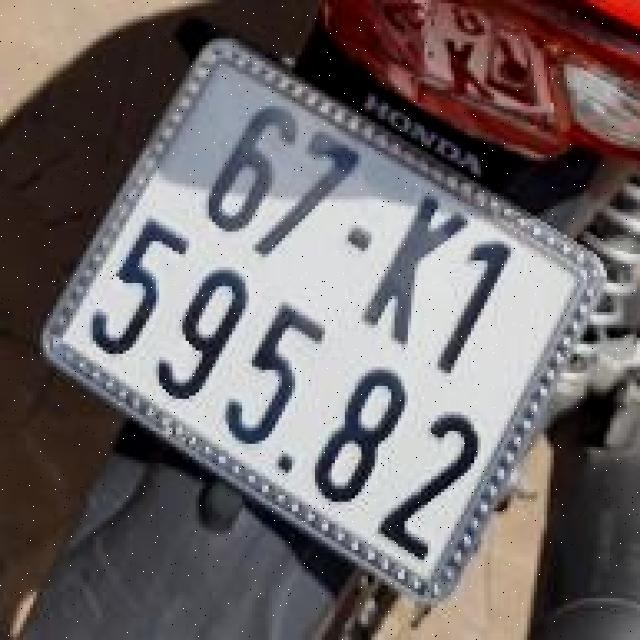1: (420, 222, 536, 395)
2: (367, 397, 505, 574)
5: (207, 291, 343, 463), (74, 204, 205, 373)
6: (194, 86, 319, 245)
7: (242, 116, 376, 275)
8: (297, 350, 431, 525)
9: (144, 248, 271, 420)
K: (350, 177, 490, 363)
